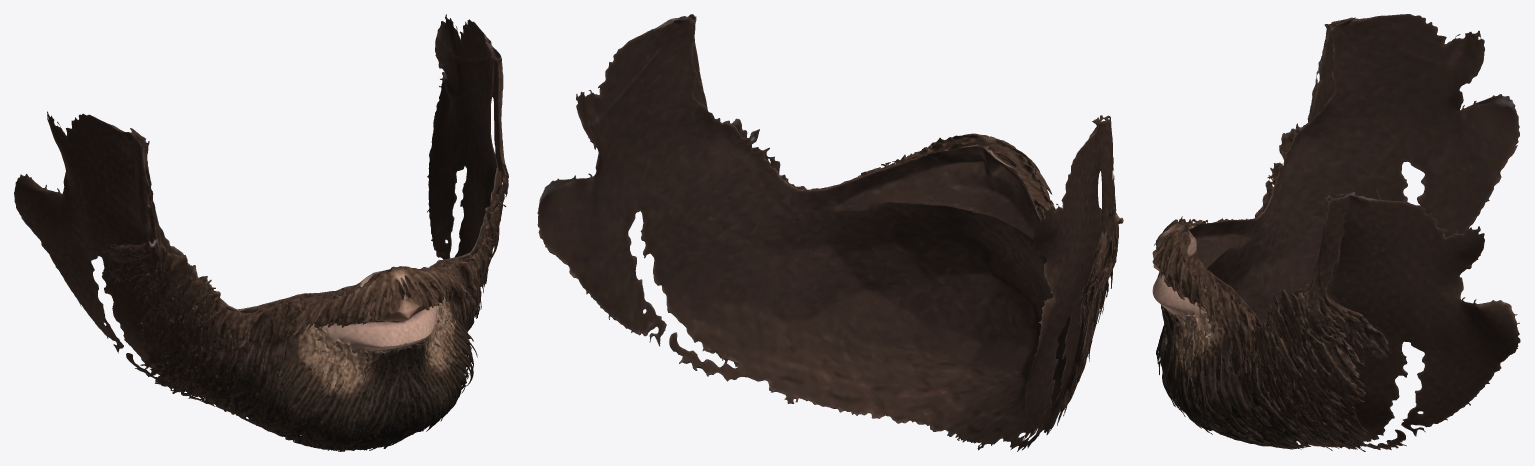
The model's file is Barba_Curta.glb.
3 views of the same model, side by side, from view 1: azimuth 30°, elevation 25°; view 2: azimuth 150°, elevation 25°; view 3: azimuth 270°, elevation 25° (orthographic). The views are drawn at different scales.
Size of the model in its own units: 1.89 by 1.37 by 1.4.
1 material, 1 textured.
